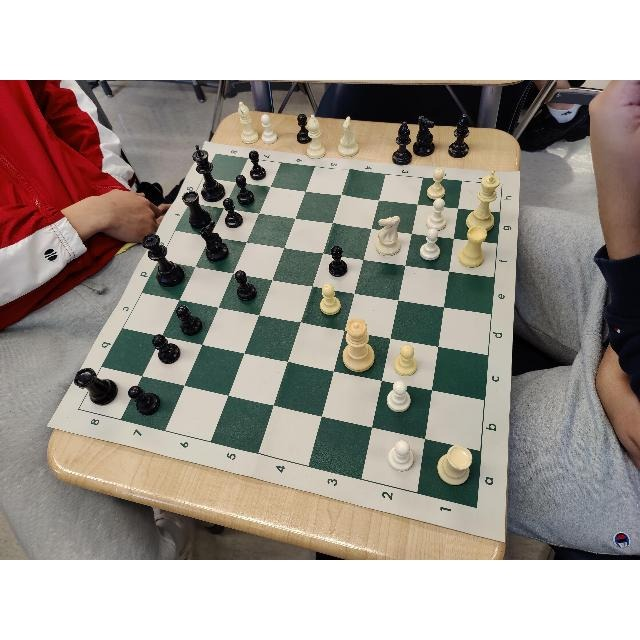black-king: (192, 145, 225, 203)
black-knight: (201, 222, 229, 262)
black-pawn: (128, 384, 160, 415), (152, 332, 180, 363), (176, 304, 202, 335), (234, 271, 256, 302), (328, 245, 348, 276), (223, 198, 243, 228), (236, 174, 255, 205), (249, 150, 266, 180)
black-queen: (142, 234, 185, 288)
black-rook: (74, 368, 118, 404), (183, 191, 211, 228)
white-king: (466, 170, 498, 231)
white-knight: (375, 215, 402, 256)
white-pawn: (388, 440, 414, 472), (395, 343, 418, 377), (387, 381, 411, 412), (320, 283, 342, 315), (419, 228, 441, 260), (426, 198, 446, 230), (426, 169, 445, 199)
white-queen: (342, 317, 375, 372)
white-rook: (437, 444, 473, 486), (458, 225, 487, 269)
